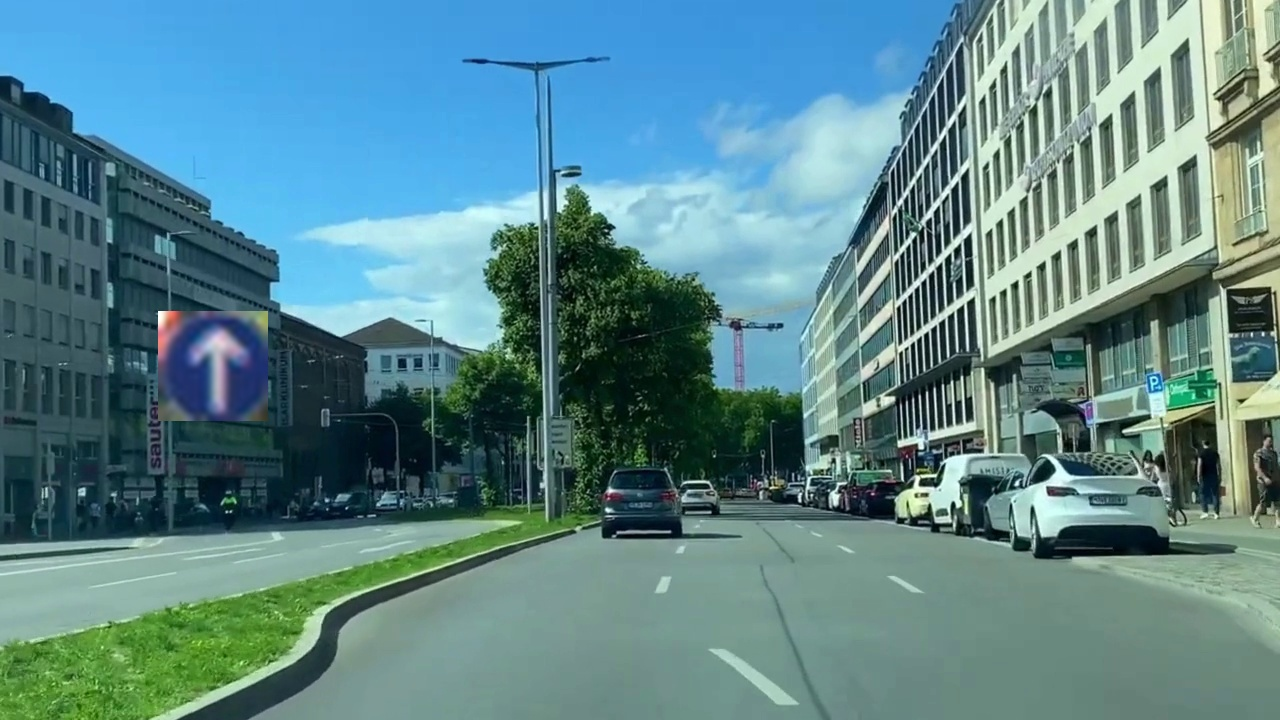Ahead only: (158, 311, 268, 421)
